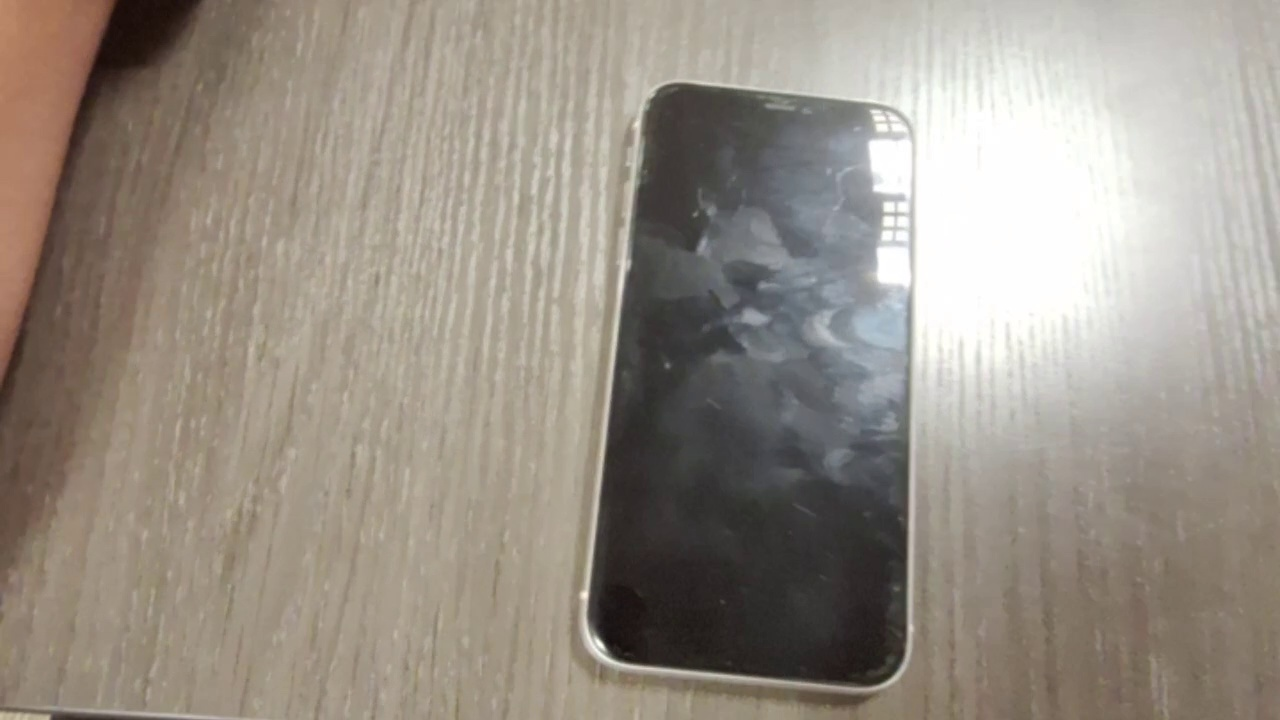celular: (578, 80, 921, 692)
